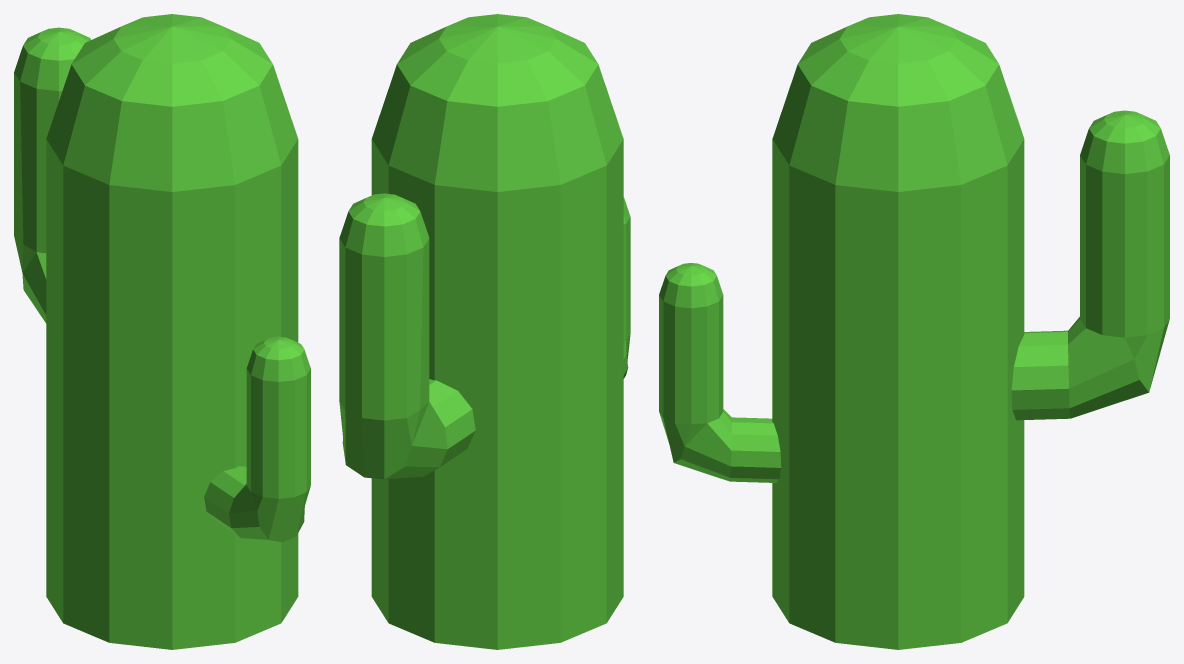
The model's file is cactus_1.fbx.
3 renders of one model, left to right at view 1: azimuth 30°, elevation 25°; view 2: azimuth 150°, elevation 25°; view 3: azimuth 270°, elevation 25°, orthographic.
Visible parts, largest first — view 1: Cylinder; view 2: Cylinder; view 3: Cylinder.
Boxes of the visible parts, box(x1,y1,x2,y2) form: Cylinder: box(14, 14, 310, 649); Cylinder: box(339, 14, 630, 649); Cylinder: box(659, 14, 1169, 649).
Bounding box in the file's own units: 80 × 200 × 162.
